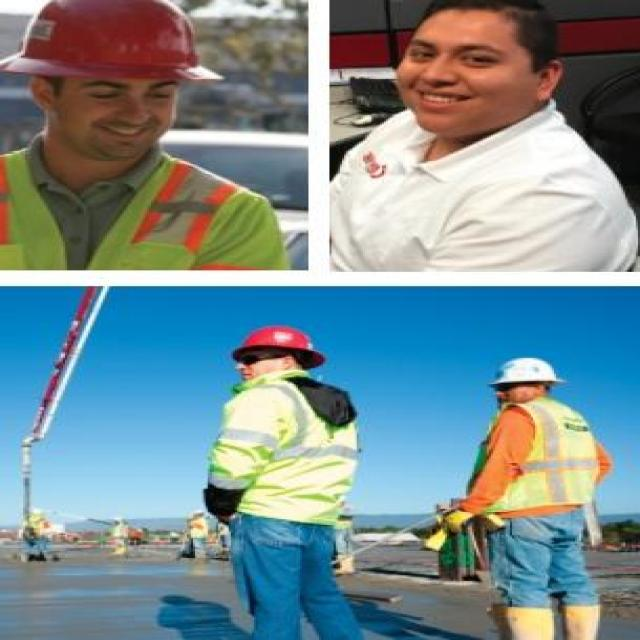Reflective-Jacket: (0, 147, 290, 272), (202, 378, 370, 531), (470, 398, 606, 520)
Safety-Helmet: (0, 1, 227, 85), (225, 319, 325, 364), (482, 352, 564, 390)
